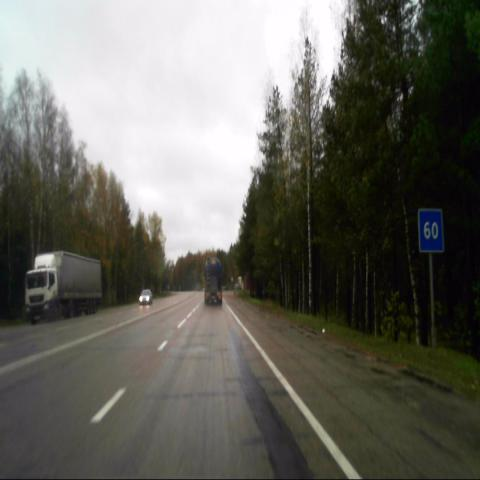6_2: (417, 209, 447, 258)
